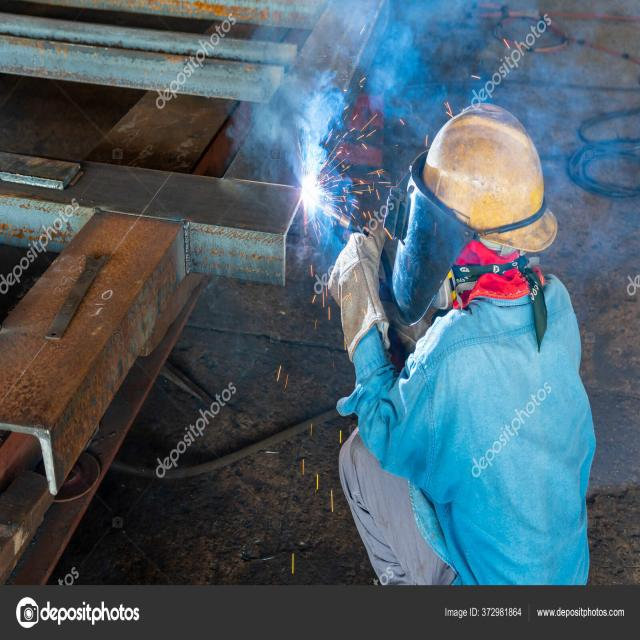welding: (301, 166, 320, 213)
